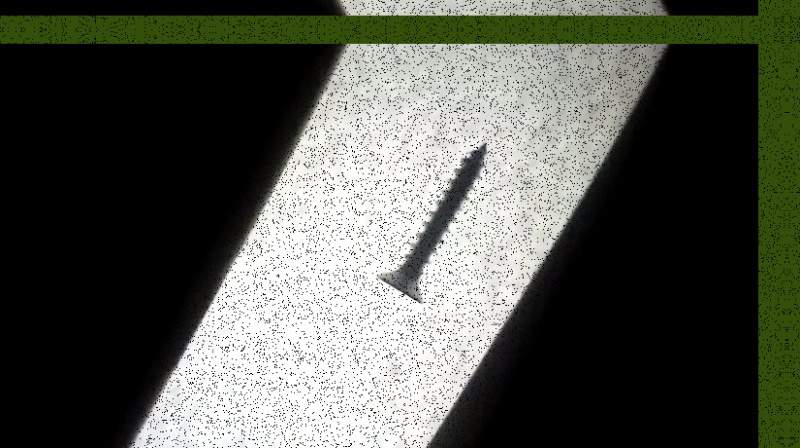S001: (373, 142, 496, 308)
